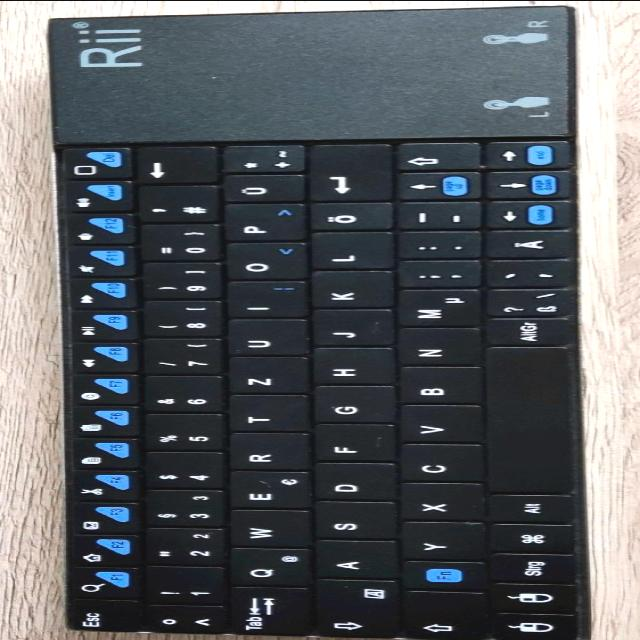0: (134, 226, 218, 262)
1: (141, 567, 223, 605)
2: (140, 529, 223, 566)
3: (139, 490, 222, 528)
4: (138, 453, 222, 489)
5: (138, 416, 221, 452)
6: (138, 377, 221, 413)
7: (137, 340, 221, 376)
8: (136, 302, 220, 338)
9: (134, 264, 220, 301)
a: (309, 541, 395, 579)
accent: (480, 261, 571, 289)
ae: (488, 231, 572, 259)
alt-left: (483, 495, 571, 523)
altgr-right: (481, 318, 573, 346)
b: (393, 367, 479, 405)
c: (392, 444, 481, 483)
caret: (143, 606, 224, 635)
comma: (390, 262, 476, 290)
d: (307, 464, 393, 502)
del: (129, 147, 215, 185)
e: (223, 472, 309, 510)
enter: (301, 145, 389, 201)
f: (308, 426, 392, 462)
g: (306, 387, 392, 425)
h: (305, 349, 391, 385)
hash: (131, 187, 217, 224)
i: (219, 283, 302, 319)
j: (306, 311, 390, 347)
k: (303, 273, 391, 310)
keyboard: (46, 0, 592, 640)
l: (303, 234, 389, 270)
m: (389, 291, 479, 329)
minus: (390, 203, 479, 231)
n: (391, 329, 479, 367)
o: (219, 244, 303, 282)
oe: (303, 204, 389, 232)
p: (216, 205, 302, 243)
plus: (215, 146, 303, 174)
point: (391, 234, 475, 260)
q: (224, 548, 310, 588)
r: (224, 434, 308, 472)
s: (309, 503, 395, 541)
shift-left: (398, 593, 482, 640)
shift-lock: (311, 580, 397, 639)
shift-right: (394, 143, 483, 171)
space: (481, 349, 571, 493)
ss: (480, 290, 574, 318)
strg-left: (483, 554, 572, 583)
t: (222, 397, 304, 433)
tab: (225, 587, 309, 637)
u: (220, 321, 306, 357)
ue: (215, 176, 301, 204)
v: (392, 406, 480, 444)
w: (221, 511, 309, 548)
x: (393, 484, 481, 521)
y: (394, 523, 482, 561)
z: (222, 359, 305, 395)
